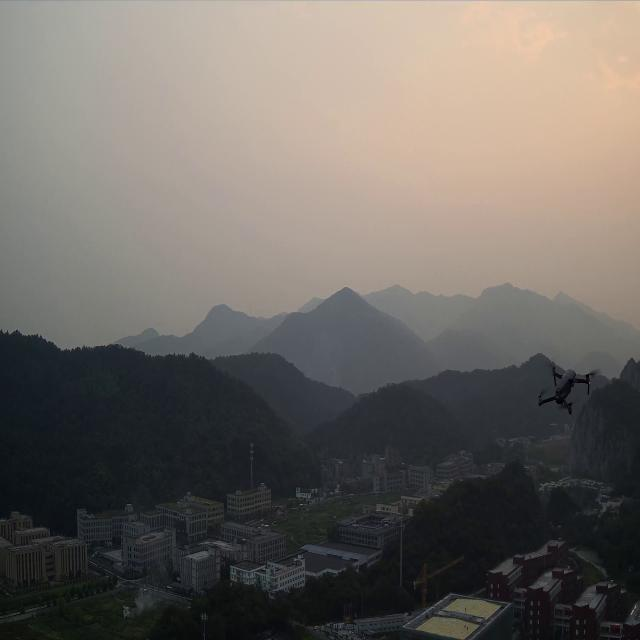UAV: (538, 363, 600, 414)
